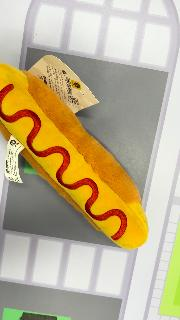hotdog: (1, 62, 150, 250)
